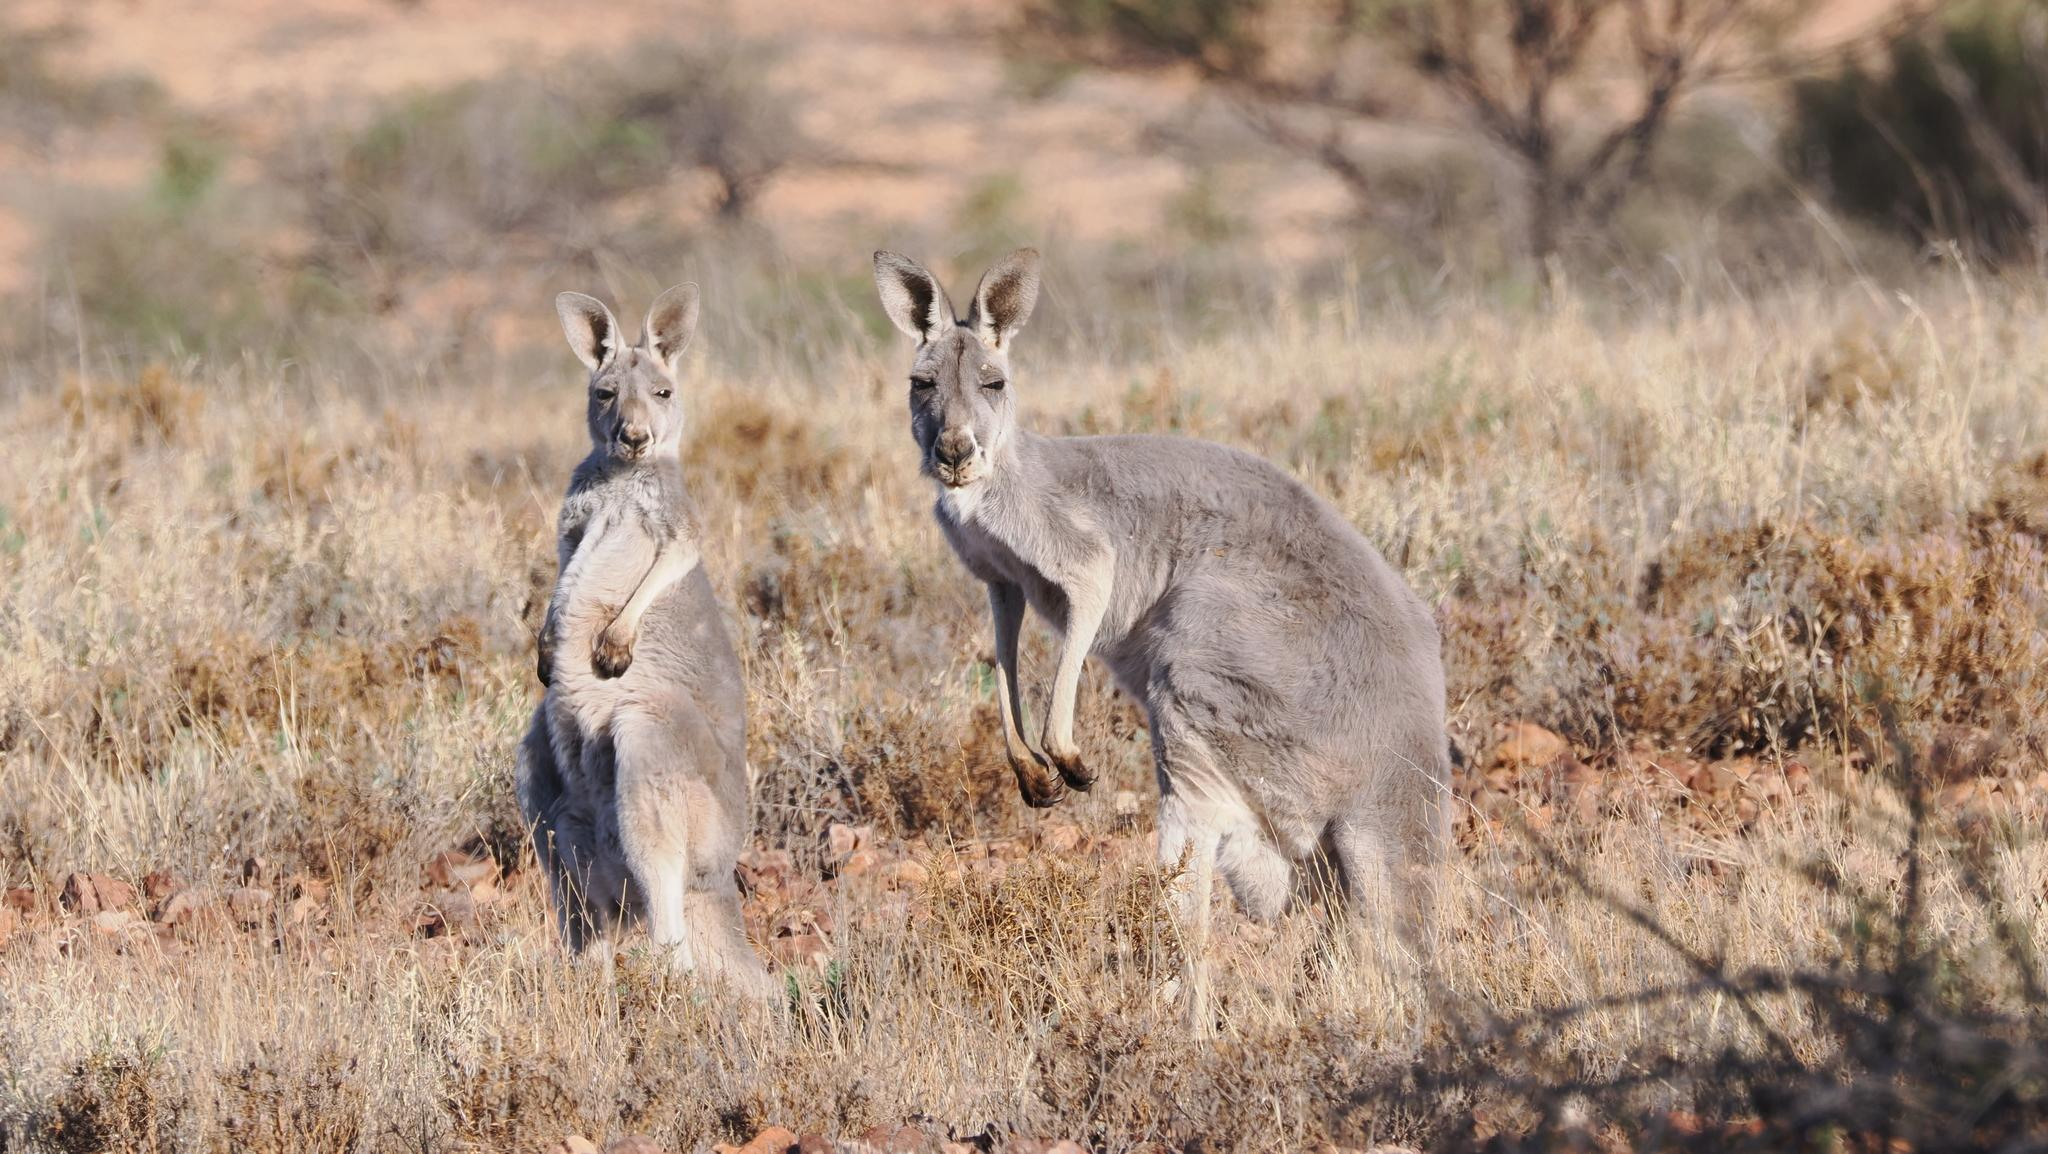Red kangaroo: (872, 242, 1730, 947), (516, 283, 851, 1003)
